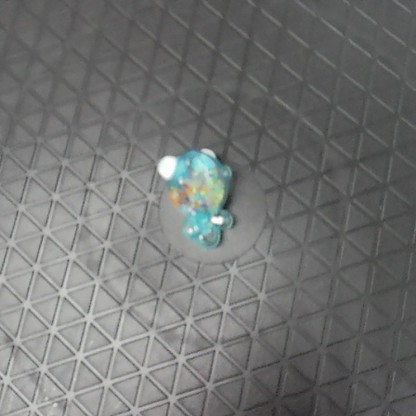bluefish: (150, 144, 240, 251)
